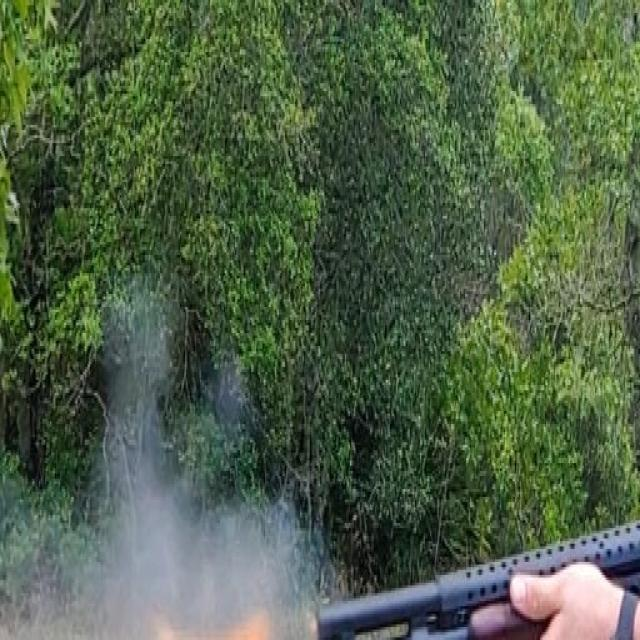Guns: (290, 425, 640, 640)
